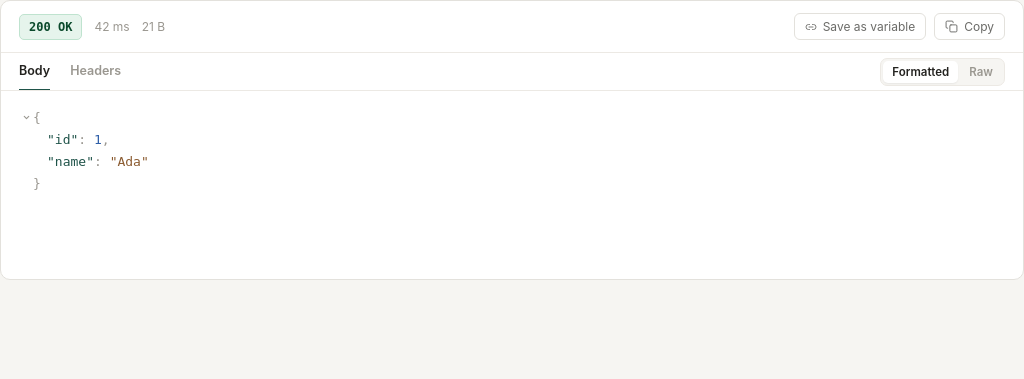
Test case: ResponsePanel — save as variable (request chaining) › closes the panel and clears its error when a new result comes in
Click the button "Save as variable" at x=860, y=26, box [794, 13, 926, 40]
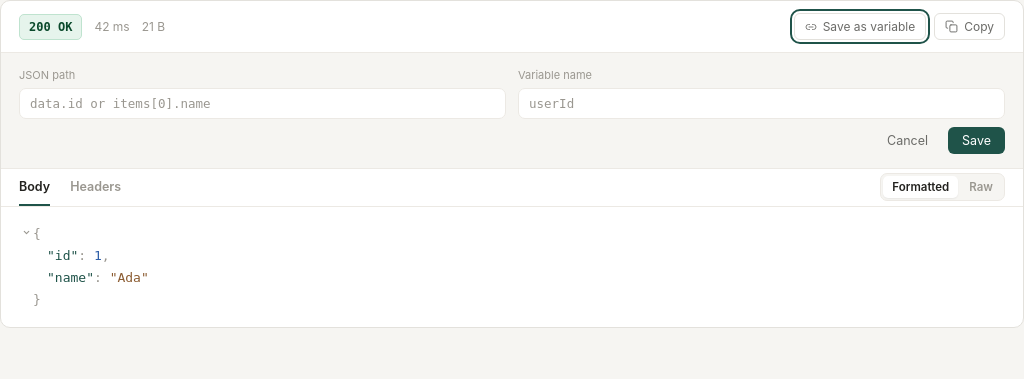
Click the button "Save" at x=977, y=140, box [948, 126, 1005, 154]
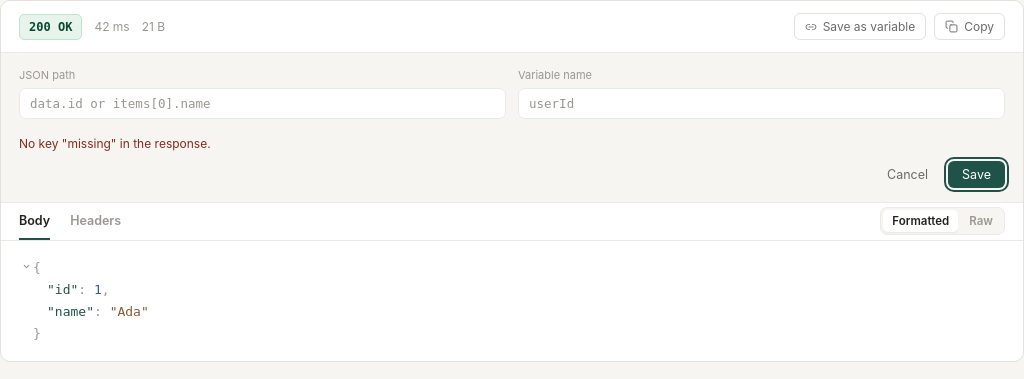
Check: the text "No key \"missing\" in the response." is shown, box [19, 136, 211, 150]
